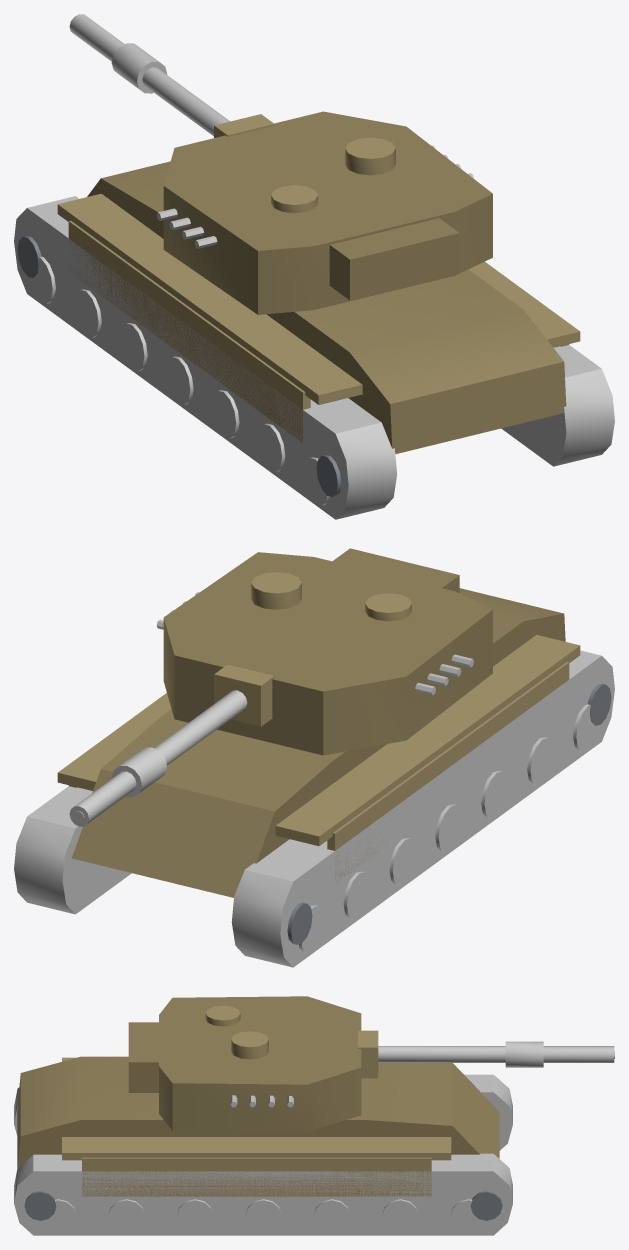
3 renders of one model, top to bottom at view 1: azimuth 30°, elevation 25°; view 2: azimuth 150°, elevation 25°; view 3: azimuth 270°, elevation 25°, orthographic. The views are drawn at different scales.
Parts seen in each view (by area): view 1: model; view 2: model; view 3: model.
Part boxes in pixels (x1,y1,x2,y2): model: (14,14,614,519); model: (14,548,614,967); model: (14,996,614,1235).
Size of the model in its own units: 3.51 by 2.7 by 8.91.
